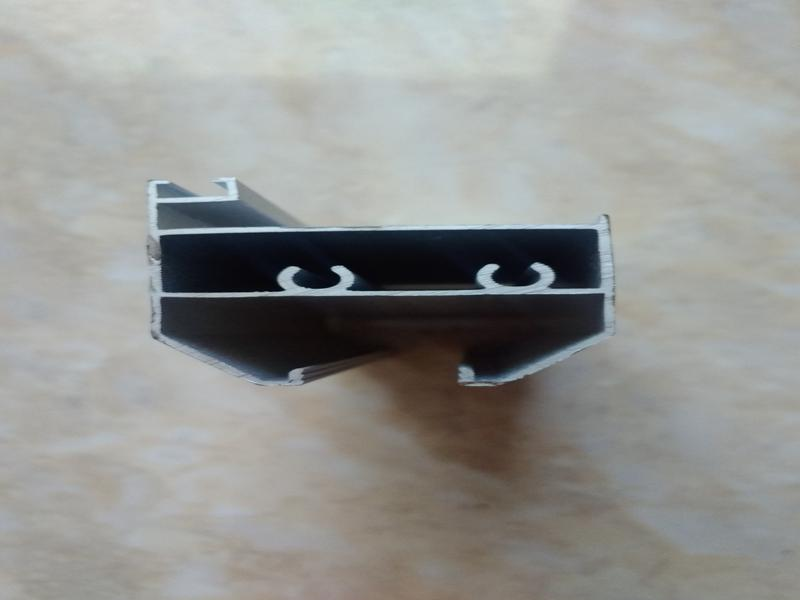Aluminium_3: (110, 146, 671, 421)
